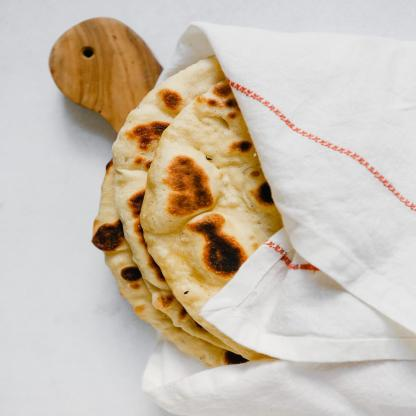naan: (92, 54, 288, 368)
